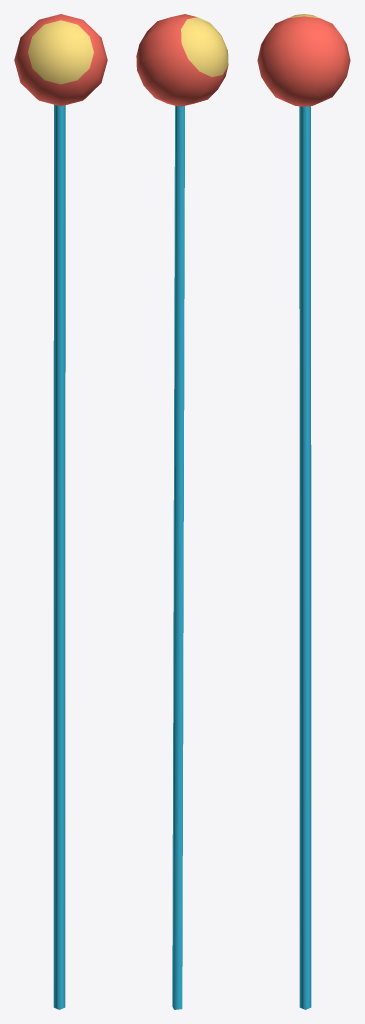
The model's file is tree01.FBX.
The picture shows the model from 3 angles, left to right: view 1: azimuth 90°, elevation 25°; view 2: azimuth 150°, elevation 25°; view 3: azimuth 270°, elevation 25°; orthographic projection.
Parts seen in each view (by area): view 1: tree01; view 2: tree01; view 3: tree01.
Boxes of the visible parts, <box> form: tree01: <box>14,14,107,1009</box>; tree01: <box>136,14,228,1009</box>; tree01: <box>257,14,350,1009</box>.
Size of the model in its own units: 4.92 by 57.87 by 4.95.
1 material, 1 textured.
